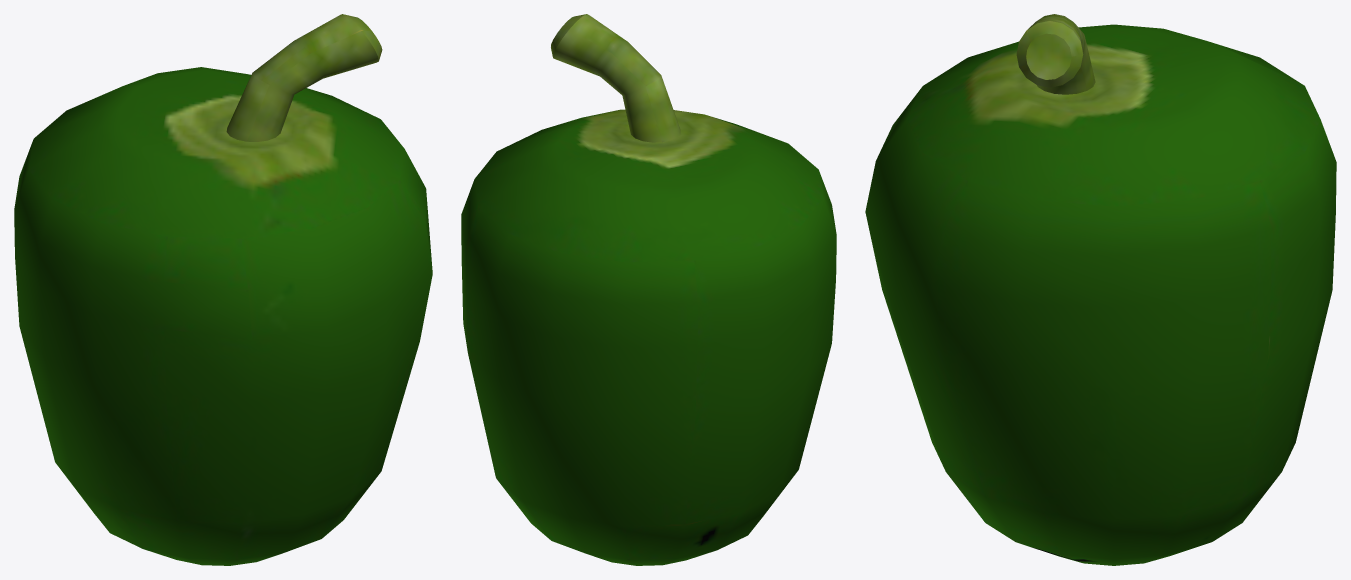
The model's file is SM_配餐室_水果蔬菜_01.fbx.
3 views of the same model, side by side, from view 1: azimuth 30°, elevation 25°; view 2: azimuth 150°, elevation 25°; view 3: azimuth 270°, elevation 25° (orthographic). The views are drawn at different scales.
Parts seen in each view (by area): view 1: SM_配餐室_水果蔬菜_01; view 2: SM_配餐室_水果蔬菜_01; view 3: SM_配餐室_水果蔬菜_01.
Part boxes in pixels (left/top/right/bottom): SM_配餐室_水果蔬菜_01: left=14, top=14, right=432, bottom=565; SM_配餐室_水果蔬菜_01: left=461, top=14, right=836, bottom=565; SM_配餐室_水果蔬菜_01: left=865, top=14, right=1336, bottom=565.
Size of the model in its own units: 102 by 143 by 108.
